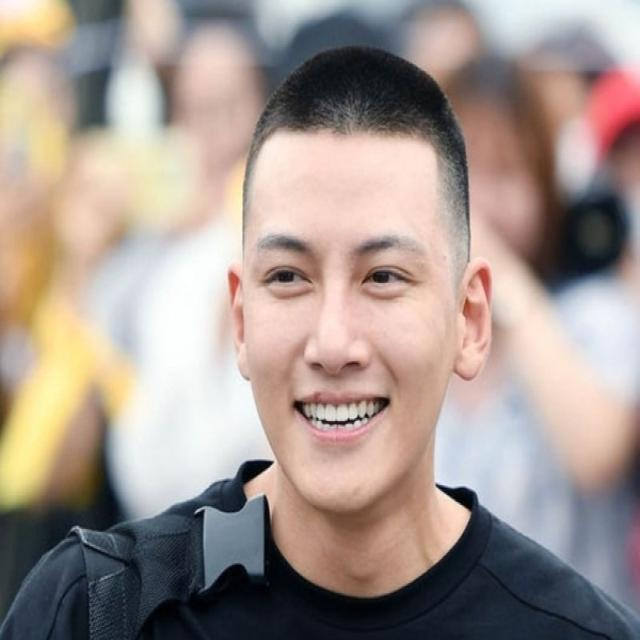Nonhelmet: (222, 40, 498, 516)
